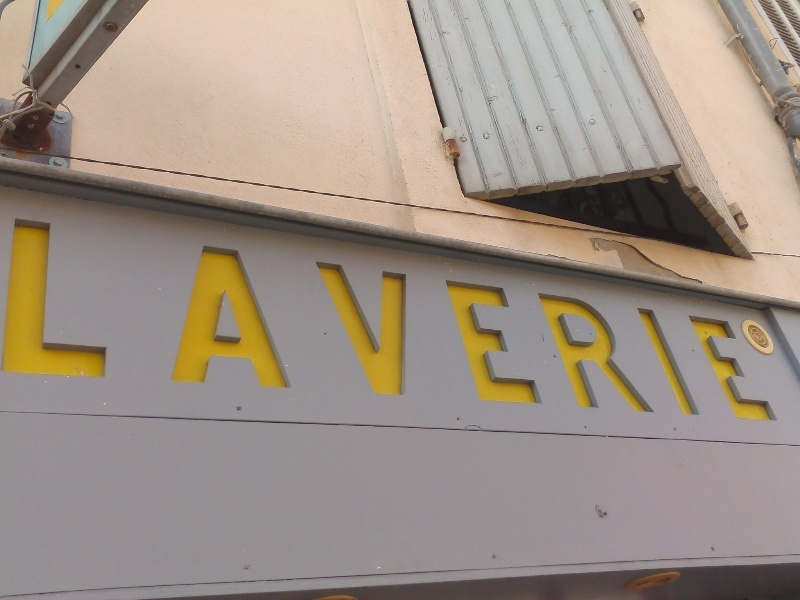text: (17, 209, 32, 425), (33, 209, 48, 425), (49, 209, 64, 425), (65, 209, 80, 425), (81, 209, 96, 425), (97, 209, 112, 425), (113, 209, 128, 425), (129, 209, 144, 425), (145, 209, 160, 425), (161, 209, 176, 425), (177, 209, 192, 425), (193, 209, 208, 425), (209, 209, 224, 425), (225, 209, 240, 425), (241, 209, 256, 425), (257, 209, 272, 425), (273, 209, 288, 425), (289, 209, 304, 425), (305, 209, 320, 425), (321, 209, 336, 425), (337, 209, 352, 425), (353, 209, 368, 425), (369, 209, 384, 425), (385, 209, 400, 425), (401, 209, 416, 425), (417, 209, 432, 425), (433, 209, 448, 425), (449, 209, 464, 425), (465, 209, 480, 425), (481, 209, 496, 425), (497, 209, 512, 425), (513, 209, 528, 425), (529, 209, 544, 425), (545, 209, 560, 425), (561, 209, 576, 425), (577, 209, 592, 425), (593, 209, 608, 425), (609, 209, 624, 425), (625, 209, 640, 425), (641, 209, 656, 425), (657, 209, 672, 425), (673, 209, 688, 425), (689, 209, 704, 425), (705, 209, 720, 425), (721, 209, 736, 425), (737, 209, 752, 425), (753, 209, 768, 425), (769, 209, 784, 425), (3, 209, 16, 425), (785, 209, 788, 425)
